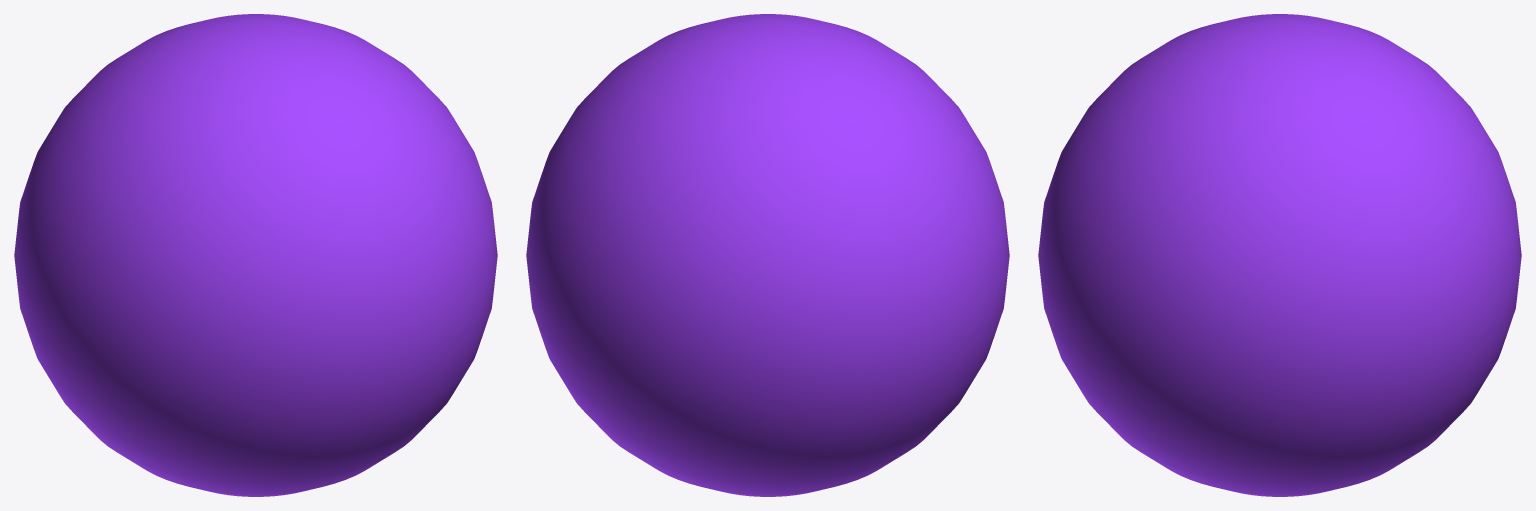
Rendered from purple_orb.fbx.
3 renders of one model, left to right at view 1: azimuth 30°, elevation 25°; view 2: azimuth 150°, elevation 25°; view 3: azimuth 270°, elevation 25°, orthographic.
Visible parts, largest first — view 1: Sphere; view 2: Sphere; view 3: Sphere.
Boxes of the visible parts, <box> form: Sphere: <box>14,14,497,496</box>; Sphere: <box>526,14,1009,496</box>; Sphere: <box>1038,14,1521,496</box>.
Bounding box in the file's own units: 100 × 100 × 100.
